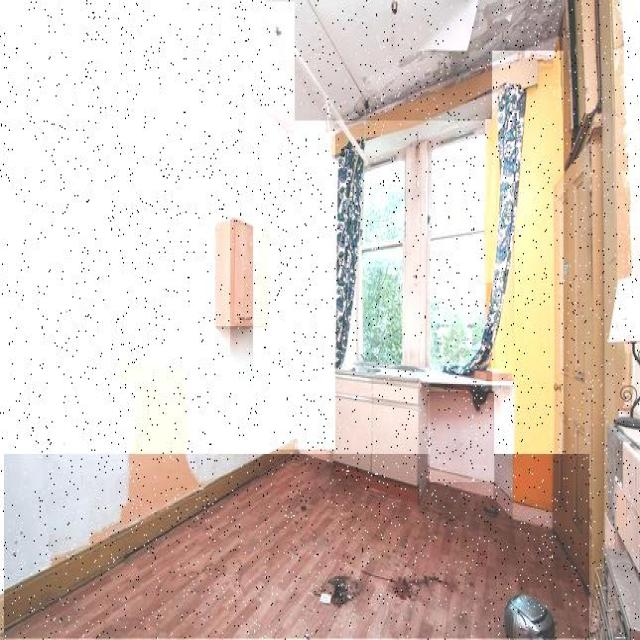Wall: (0, 2, 295, 591), (5, 455, 589, 639), (266, 1, 563, 121), (493, 51, 564, 511), (254, 133, 335, 449), (145, 0, 325, 141), (230, 188, 295, 388), (430, 391, 494, 482), (486, 120, 498, 283)
